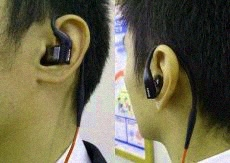earphone: (37, 14, 92, 83)
